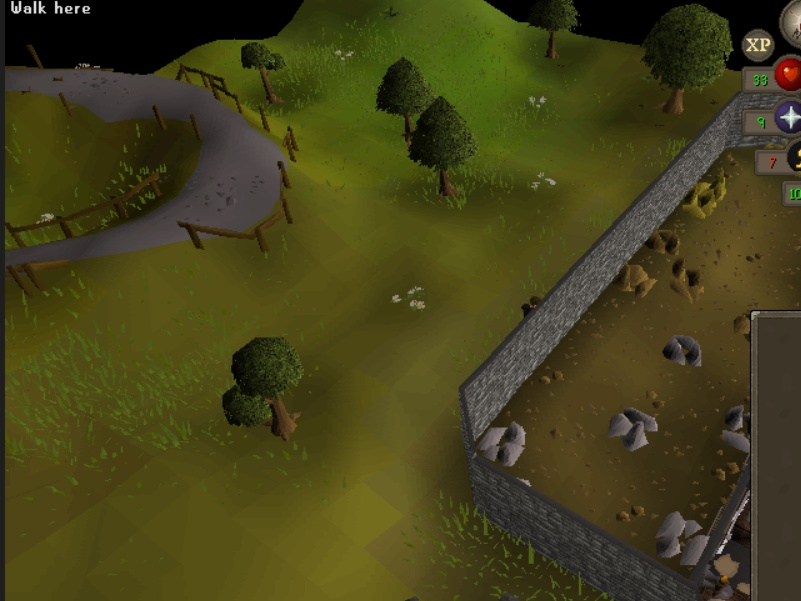clay: (616, 257, 659, 302), (644, 220, 687, 265), (664, 257, 707, 302)
gold: (687, 174, 730, 199), (680, 194, 714, 222)
silver: (654, 506, 708, 572), (474, 414, 531, 467), (654, 326, 711, 379), (605, 401, 662, 454), (714, 400, 755, 453)
